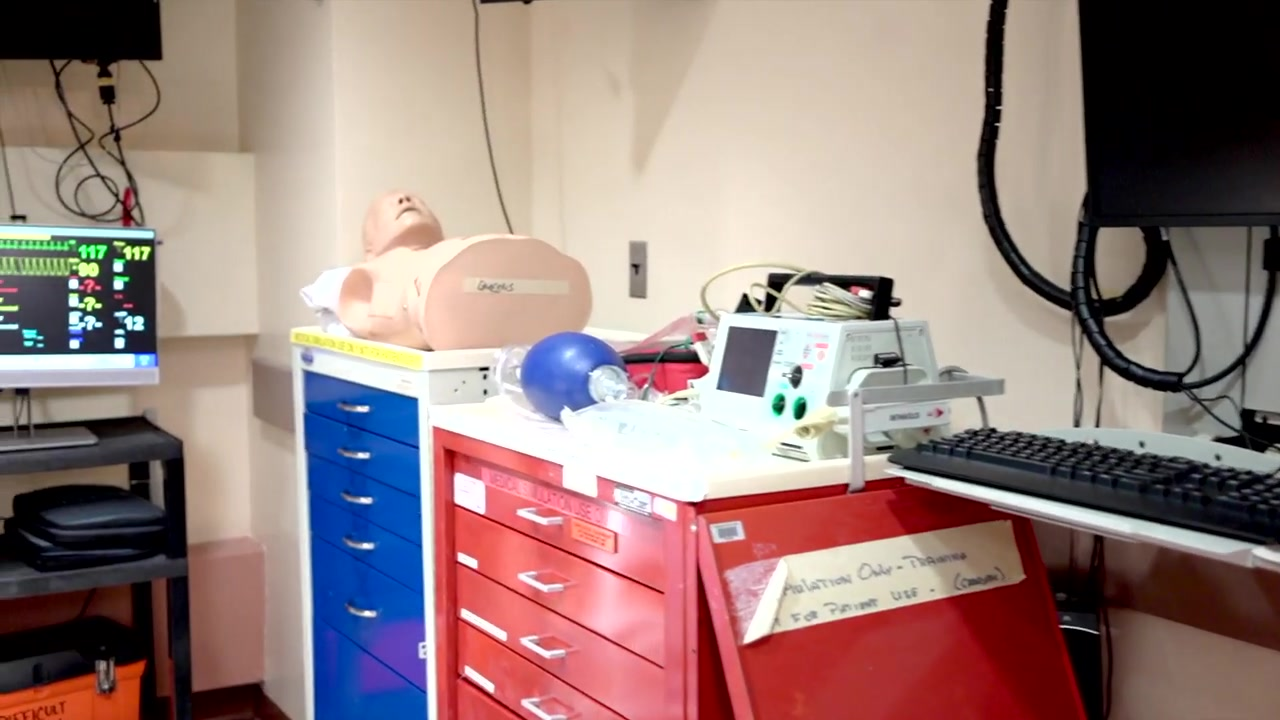bedside_monitor: (1, 225, 156, 388)
computer: (1080, 1, 1280, 230), (1, 1, 160, 58)
handle: (520, 634, 572, 662), (517, 695, 575, 720), (514, 503, 566, 530), (517, 569, 567, 597), (334, 444, 379, 466), (341, 531, 380, 555), (331, 398, 375, 419), (337, 487, 377, 509), (343, 599, 381, 620)
keyboard: (885, 426, 1280, 545)
light_switch: (624, 235, 652, 303)
medical_drawer: (424, 381, 1098, 720), (290, 317, 706, 711)
table: (1, 413, 192, 720)
